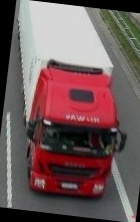truck: (0, 0, 140, 203)
